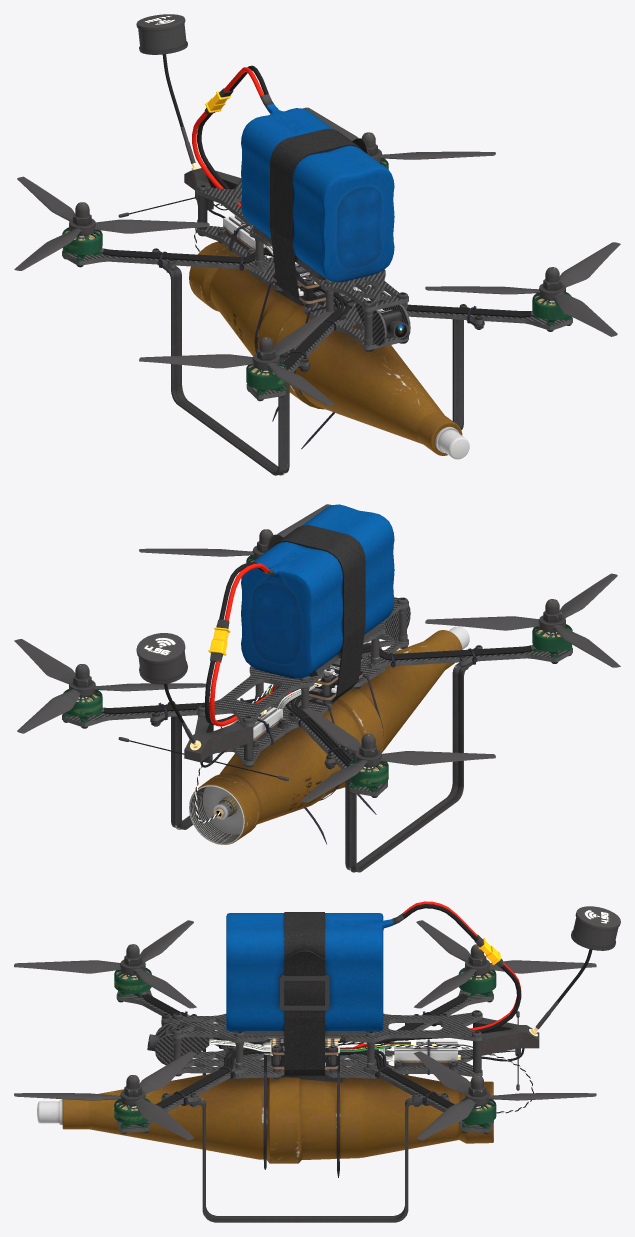
3 views of the same model, one above another, from view 1: azimuth 30°, elevation 25°; view 2: azimuth 150°, elevation 25°; view 3: azimuth 270°, elevation 25° (orthographic). The views are drawn at different scales.
Parts seen in each view (by area): view 1: Object_4, Object_5, Object_6, Object_7; view 2: Object_4, Object_5, Object_6, Object_7, Object_3; view 3: Object_4, Object_6, Object_5, Object_7, Object_3.
Part boxes in pixels (x1=…): Object_4: x1=189, y1=65, x2=469, y2=459; Object_5: x1=14, y1=176, x2=484, y2=475; Object_6: x1=118, y1=14, x2=620, y2=336; Object_7: x1=62, y1=247, x2=572, y2=401; Object_4: x1=189, y1=504, x2=469, y2=844; Object_5: x1=150, y1=573, x2=620, y2=872; Object_6: x1=14, y1=504, x2=331, y2=780; Object_7: x1=62, y1=644, x2=572, y2=797; Object_3: x1=62, y1=558, x2=572, y2=791; Object_4: x1=37, y1=901, x2=533, y2=1177; Object_6: x1=14, y1=906, x2=620, y2=1140; Object_5: x1=14, y1=920, x2=596, y2=1222; Object_7: x1=116, y1=989, x2=493, y2=1134; Object_3: x1=117, y1=971, x2=492, y2=1128.
Size of what is drawn, in the model's own units: 0.4763 by 0.2915 by 0.5554.
1 material, 1 textured.
